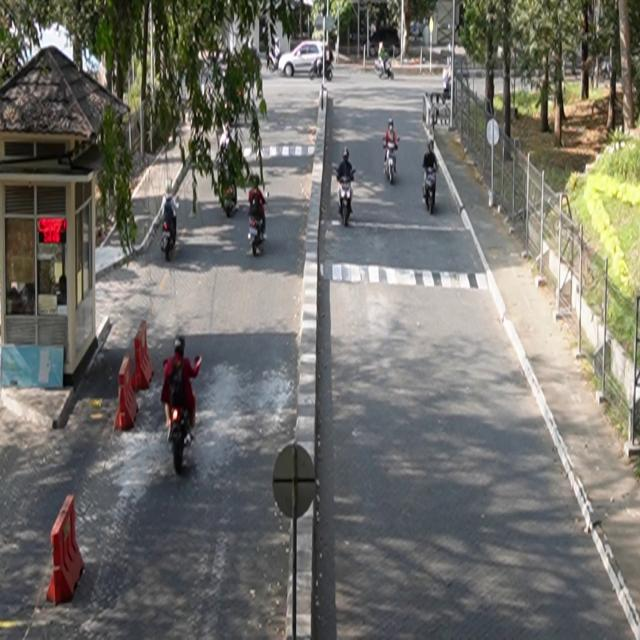car: (279, 41, 335, 79)
